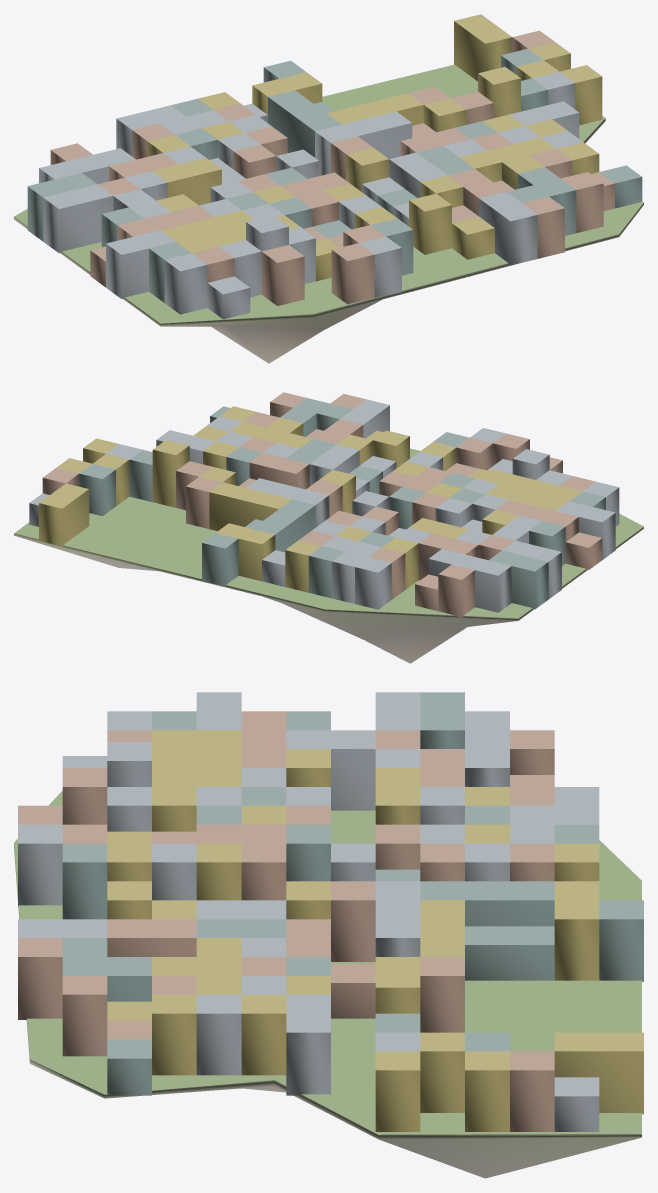
Rendered from SKY-074.lod2.glb.
3 renders of one model, top to bottom at view 1: azimuth 30°, elevation 25°; view 2: azimuth 150°, elevation 25°; view 3: azimuth 270°, elevation 25°, orthographic. The views are drawn at different scales.
Parts seen in each view (by area): view 1: warren_hull, deck, rock; view 2: warren_hull, deck, rock; view 3: warren_hull, deck, rock.
Boxes of the visible parts, bbox=[...] form: warren_hull: bbox=[27, 14, 642, 319]; deck: bbox=[14, 64, 643, 323]; rock: bbox=[14, 118, 643, 363]; warren_hull: bbox=[29, 392, 619, 617]; deck: bbox=[14, 448, 643, 618]; rock: bbox=[14, 527, 643, 663]; warren_hull: bbox=[18, 692, 643, 1131]; deck: bbox=[14, 791, 641, 1134]; rock: bbox=[14, 845, 641, 1178].
Bounding box in the file's own units: 302 × 110 × 211.
